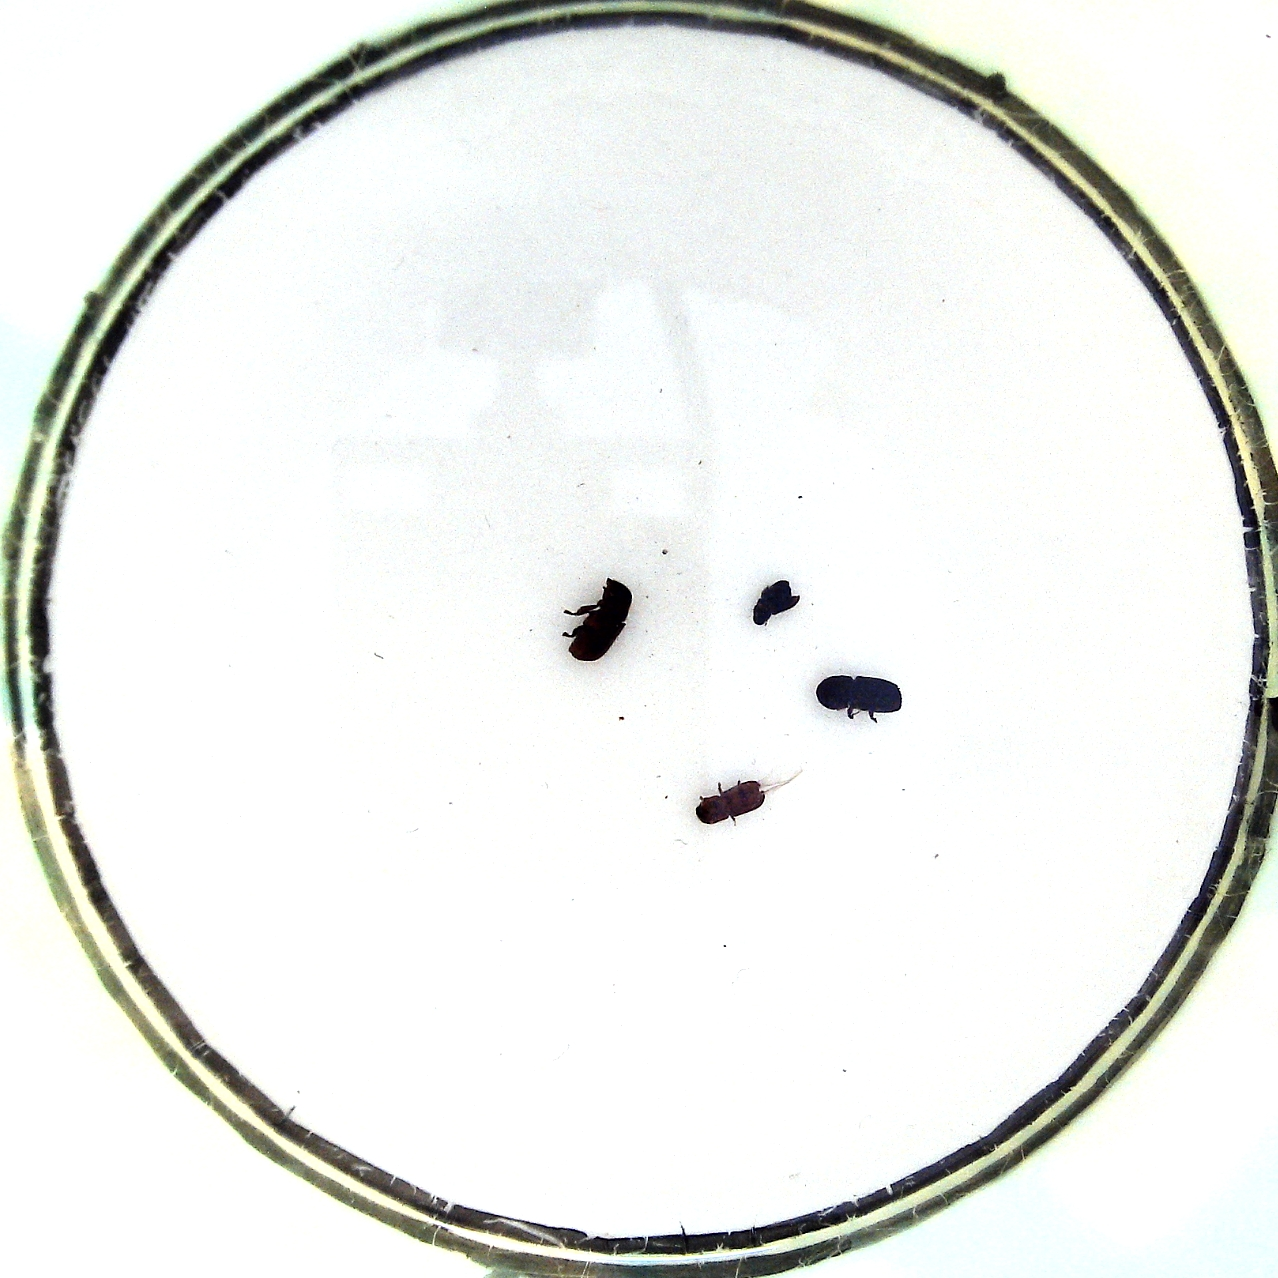Linnaeus: (815, 668, 903, 723)
acuminatus: (692, 774, 778, 825)
armandi: (554, 573, 632, 661)
coleoptera: (750, 576, 802, 628)
